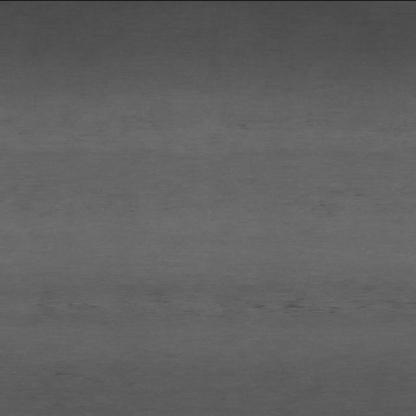silk_spot: (128, 274, 380, 324)
